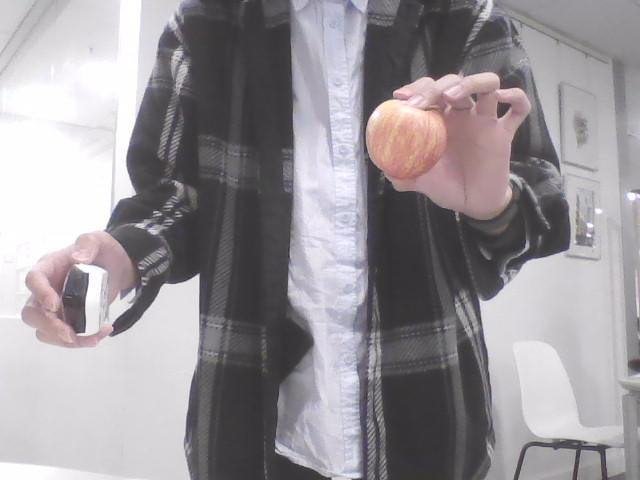apple: (365, 99, 447, 181)
